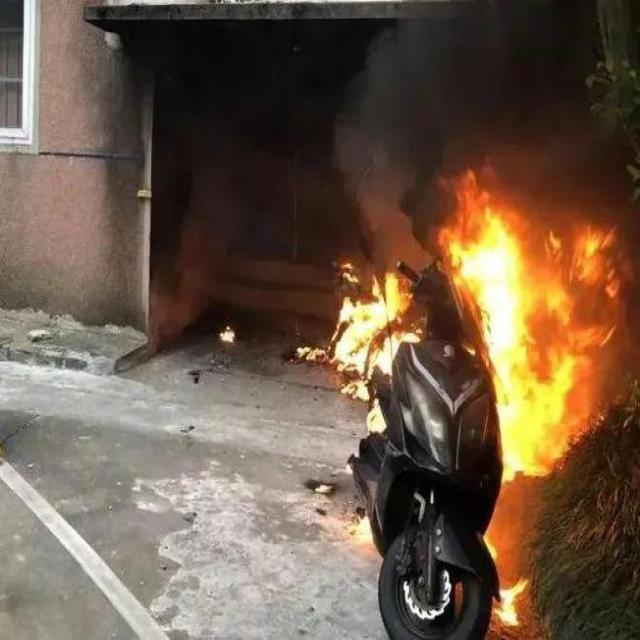Fire: (452, 215, 531, 353), (496, 356, 570, 472), (331, 273, 399, 358), (499, 576, 531, 628)
Smoke: (332, 0, 640, 214)
